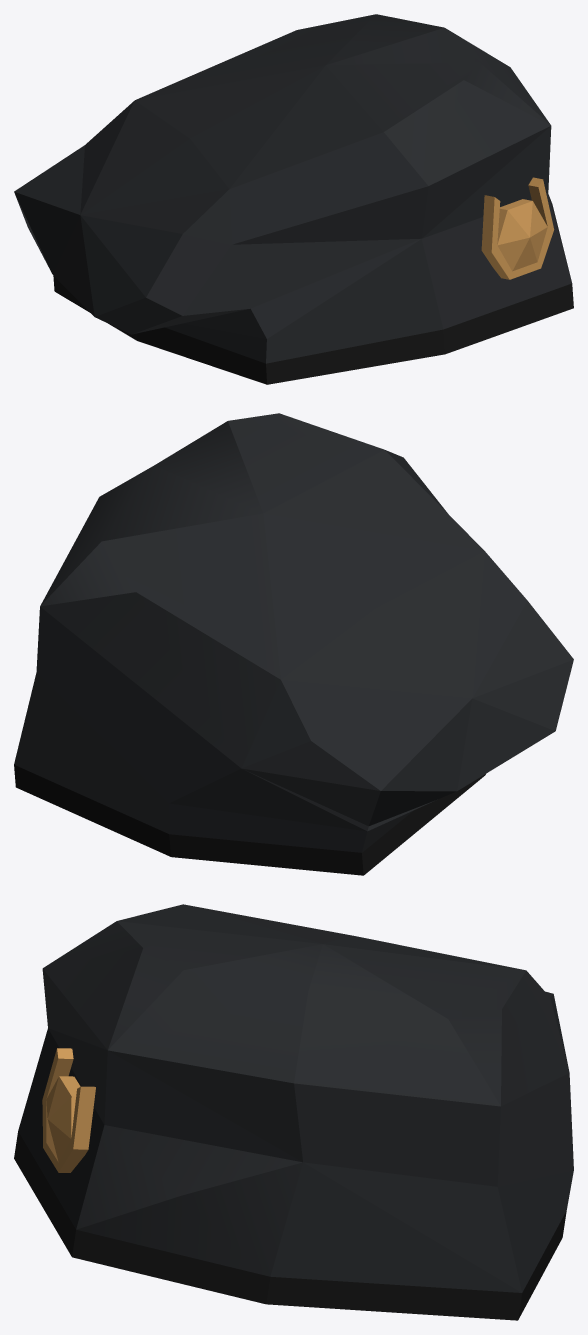
Rendered from SM_Char_Attach_Beret_01.fbx.
3 views of the same model, one above another, from view 1: azimuth 30°, elevation 25°; view 2: azimuth 150°, elevation 25°; view 3: azimuth 270°, elevation 25° (orthographic). The views are drawn at different scales.
Visible parts, largest first — view 1: SM_Char_Attach_Beret_01; view 2: SM_Char_Attach_Beret_01; view 3: SM_Char_Attach_Beret_01.
Part boxes in pixels (bbox=[...]): SM_Char_Attach_Beret_01: bbox=[14, 14, 573, 384]; SM_Char_Attach_Beret_01: bbox=[14, 413, 573, 875]; SM_Char_Attach_Beret_01: bbox=[14, 904, 573, 1320].
Size of the model in its own units: 29.75 by 18.4 by 28.15.
